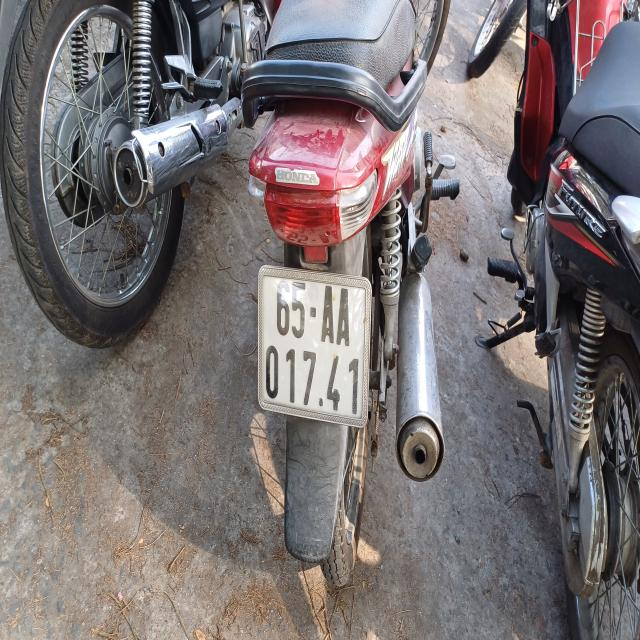0: (265, 346, 280, 398)
1: (348, 358, 360, 416), (285, 348, 296, 404)
4: (327, 355, 342, 414)
5: (292, 281, 306, 338)
6: (276, 281, 290, 335)
7: (302, 349, 316, 407)
A: (336, 287, 351, 349), (322, 284, 334, 344)
